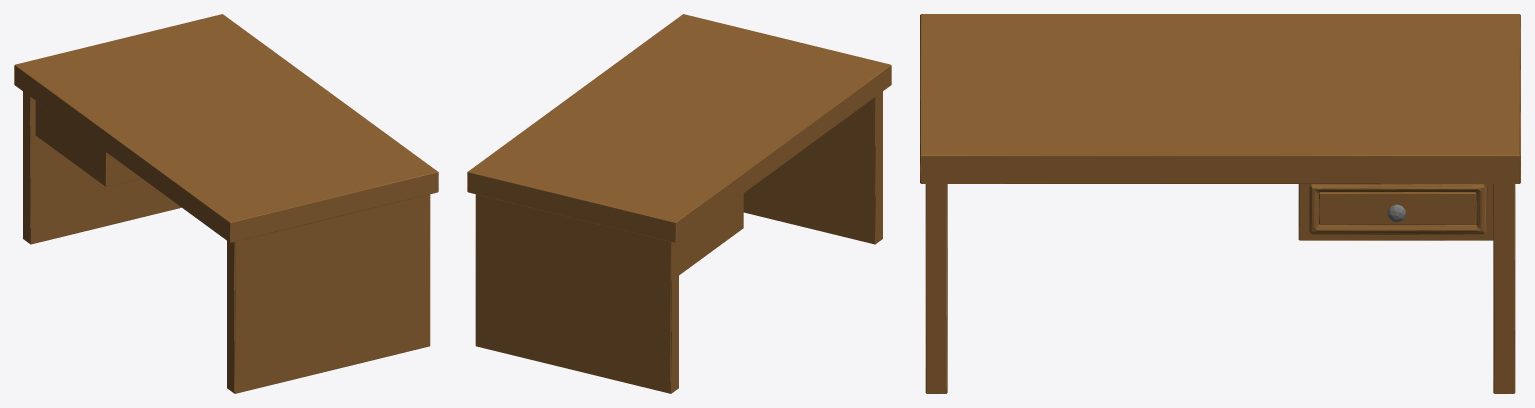
Rendered from meja.obj.
The picture shows the model from 3 angles, left to right: view 1: azimuth 30°, elevation 25°; view 2: azimuth 150°, elevation 25°; view 3: azimuth 270°, elevation 25°; orthographic projection. The views are drawn at different scales.
Visible parts, largest first — view 1: Table_Cube.017; view 2: Table_Cube.017; view 3: Table_Cube.017.
Part boxes in pixels (x1,y1,x2,y2): Table_Cube.017: (14, 14, 438, 393); Table_Cube.017: (467, 14, 891, 393); Table_Cube.017: (920, 14, 1520, 393).
Size of the model in its own units: 1.58 by 1.26 by 2.83.
